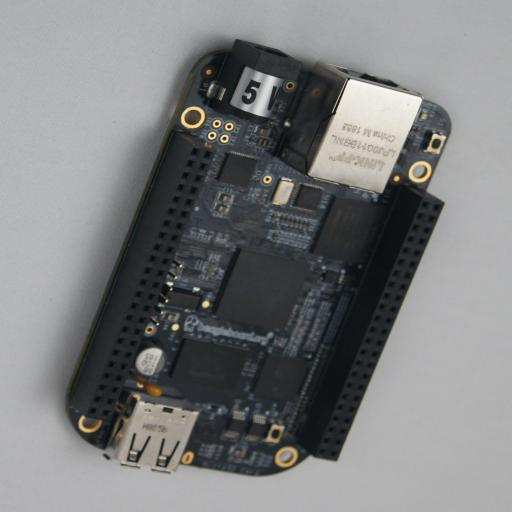Beaglebone Black: (59, 39, 451, 476)
